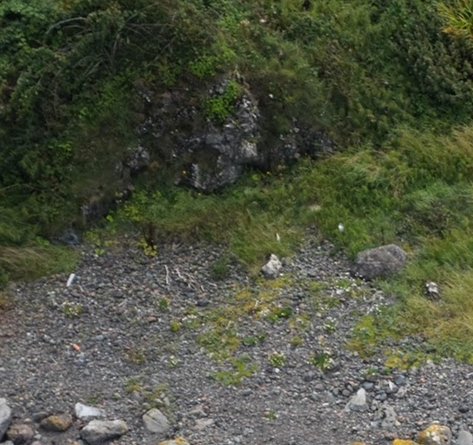white_in_green: (43, 257, 104, 303)
